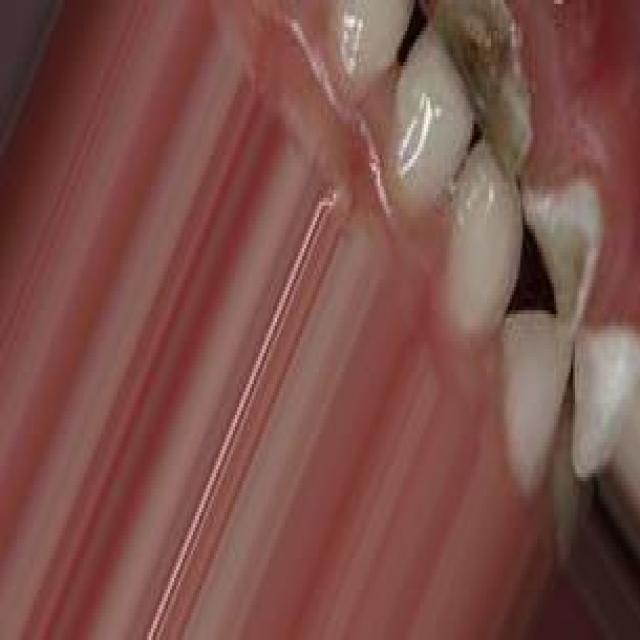caries: (510, 150, 606, 354), (432, 0, 534, 174)
